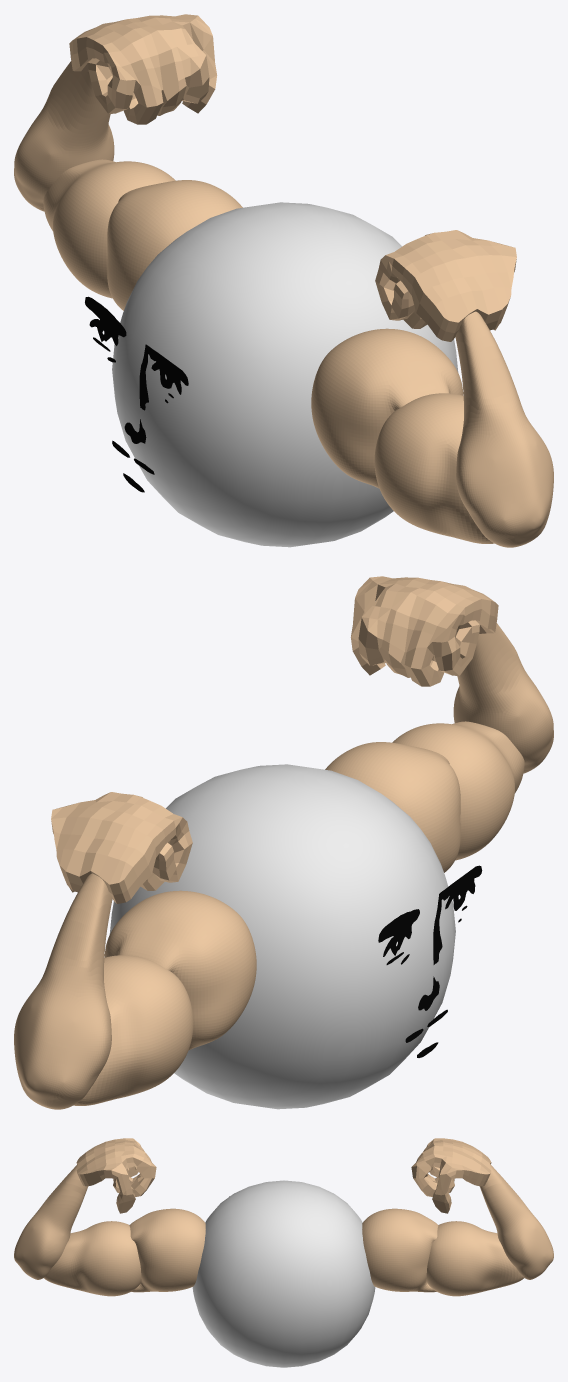
The model's file is JAWBREAKER.fbx.
3 renders of one model, top to bottom at view 1: azimuth 30°, elevation 25°; view 2: azimuth 150°, elevation 25°; view 3: azimuth 270°, elevation 25°, orthographic. The views are drawn at different scales.
Visible parts, largest first — view 1: Plane, Cube, Face; view 2: Plane, Cube, Face; view 3: Plane, Cube.
Part boxes in pixels (left/top/right/bottom): Plane: left=14, top=14, right=553, bottom=547; Cube: left=112, top=202, right=458, bottom=547; Face: left=85, top=296, right=188, bottom=492; Plane: left=14, top=576, right=553, bottom=1109; Cube: left=109, top=764, right=455, bottom=1109; Face: left=378, top=865, right=482, bottom=1057; Plane: left=14, top=1138, right=553, bottom=1296; Cube: left=192, top=1180, right=375, bottom=1367.
Bounding box in the file's own units: 168 × 215 × 490.
